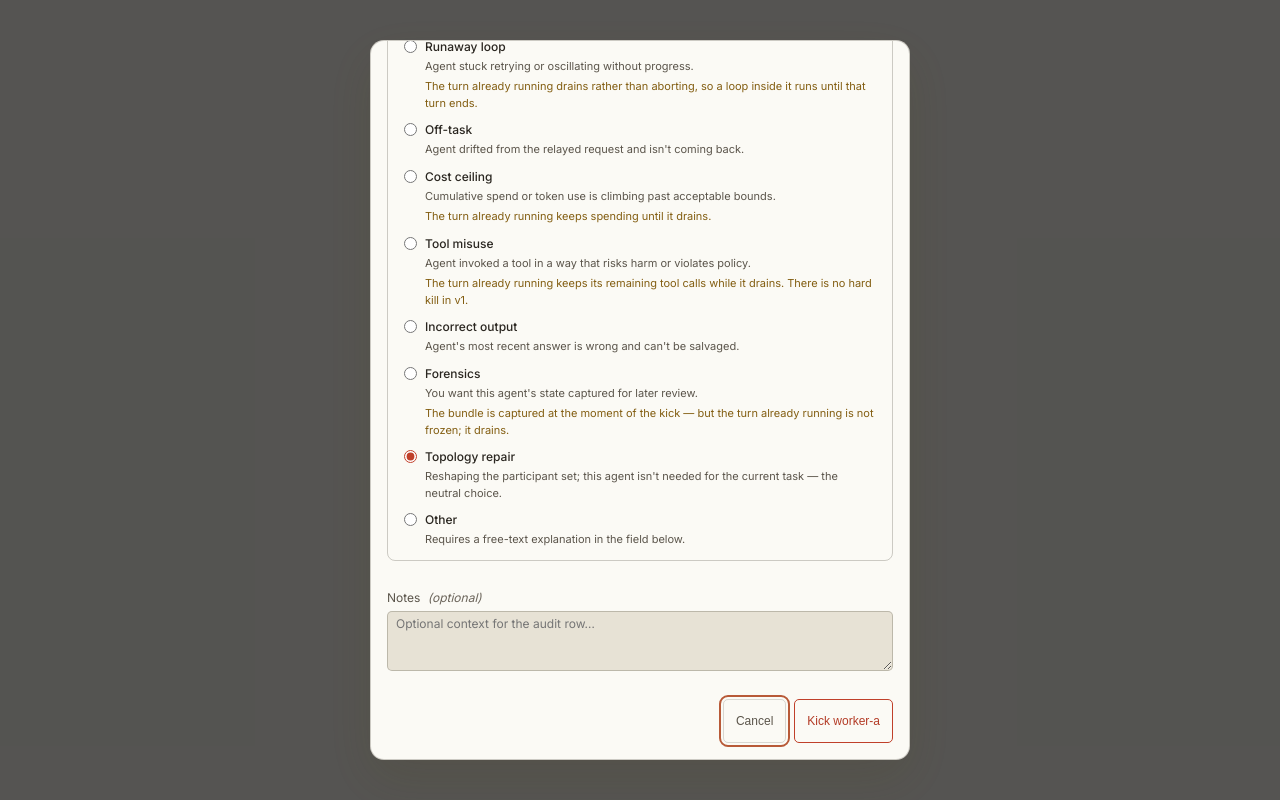
Test case: KickModal — other requires text › selecting "other" with no text disables Kick button
(page scrolled)
What coordinates should you click on to do the following:
click the radio button labelled "Other Requires a free-text explanation in the field below."
I would click on:
 (410, 520)
Its box is [404,513,417,526].
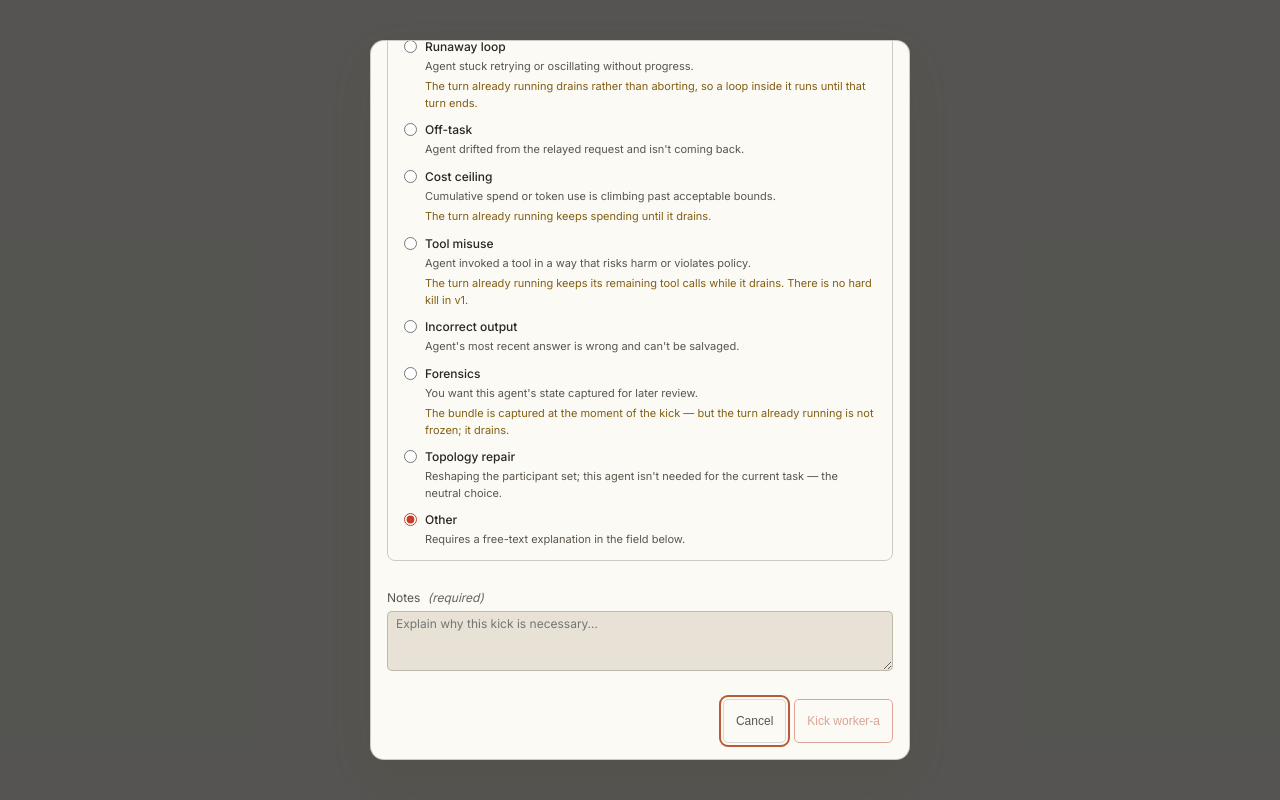
Now the button with class "gate-modal-btn-danger" is disabled, box [794,698,893,742]
